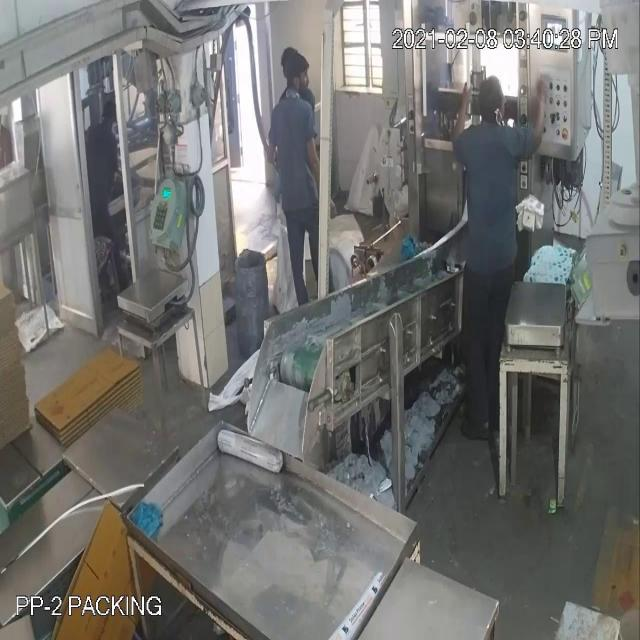No_Gloves: (26, 78, 536, 116)
